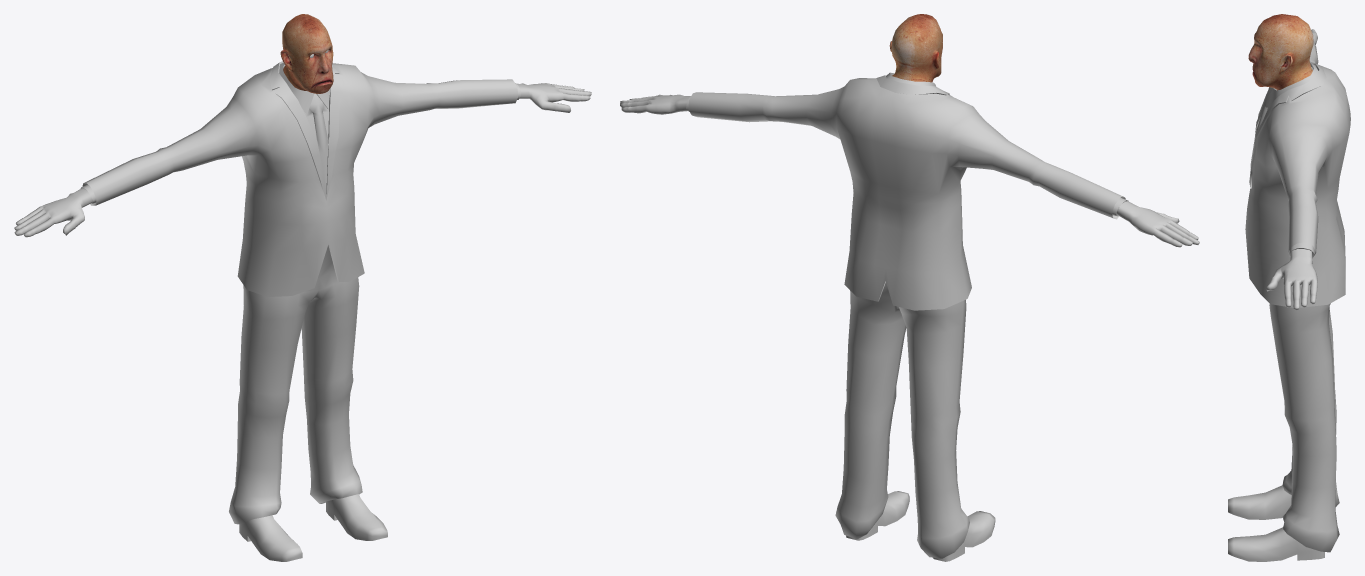
The model's file is scaryBeing9.obj.
3 views of the same model, side by side, from view 1: azimuth 30°, elevation 25°; view 2: azimuth 150°, elevation 25°; view 3: azimuth 270°, elevation 25° (orthographic).
Visible parts, largest first — view 1: SuitMonster; view 2: SuitMonster; view 3: SuitMonster.
Part boxes in pixels (x1,y1,x2,y2): SuitMonster: (14,14,591,561); SuitMonster: (620,14,1199,561); SuitMonster: (1228,14,1350,561).
Size of the model in its own units: 2.66 by 2.28 by 0.4912.
